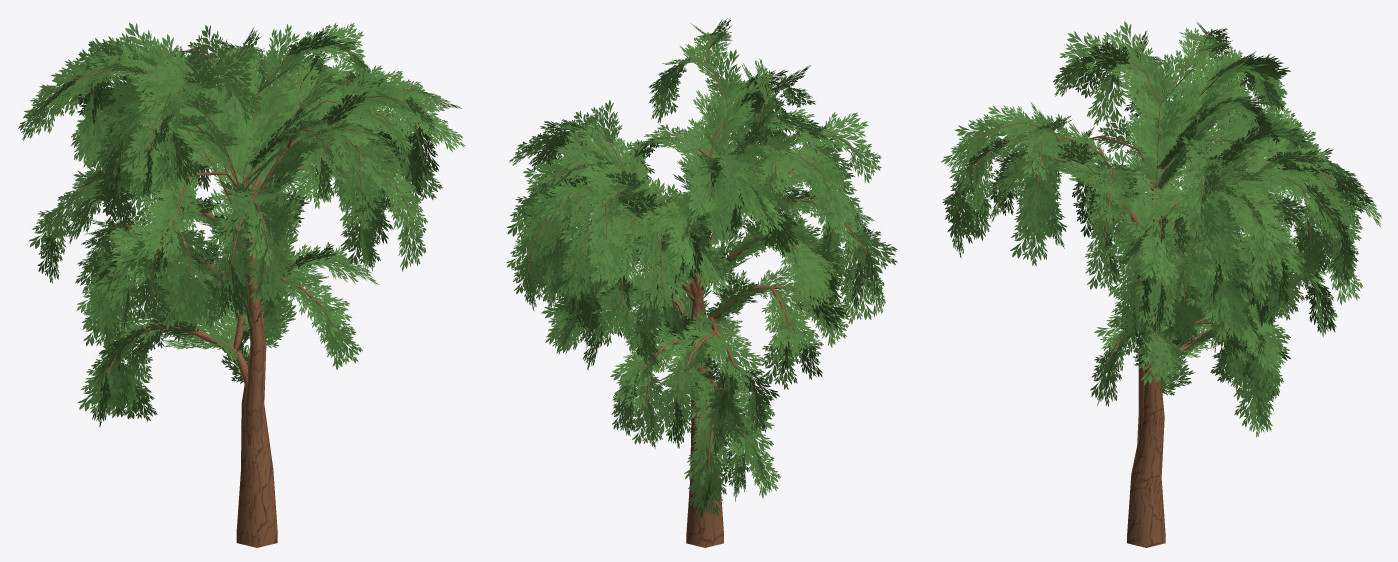
The model's file is Willow.fbx.
The picture shows the model from 3 angles, left to right: view 1: azimuth 30°, elevation 25°; view 2: azimuth 150°, elevation 25°; view 3: azimuth 270°, elevation 25°; orthographic projection. The views are drawn at different scales.
Visible parts, largest first — view 1: WillowLeaves_LOD0, Willow_LOD0; view 2: WillowLeaves_LOD0, Willow_LOD0; view 3: WillowLeaves_LOD0, Willow_LOD0.
Boxes of the visible parts, left/top/right/bottom form: WillowLeaves_LOD0: left=18, top=22, right=465, bottom=427; Willow_LOD0: left=46, top=43, right=425, bottom=547; WillowLeaves_LOD0: left=506, top=18, right=897, bottom=519; Willow_LOD0: left=527, top=35, right=876, bottom=547; WillowLeaves_LOD0: left=941, top=21, right=1382, bottom=437; Willow_LOD0: left=956, top=31, right=1348, bottom=547.
Size of what is drawn, in the model's own units: 691 by 802 by 669.
